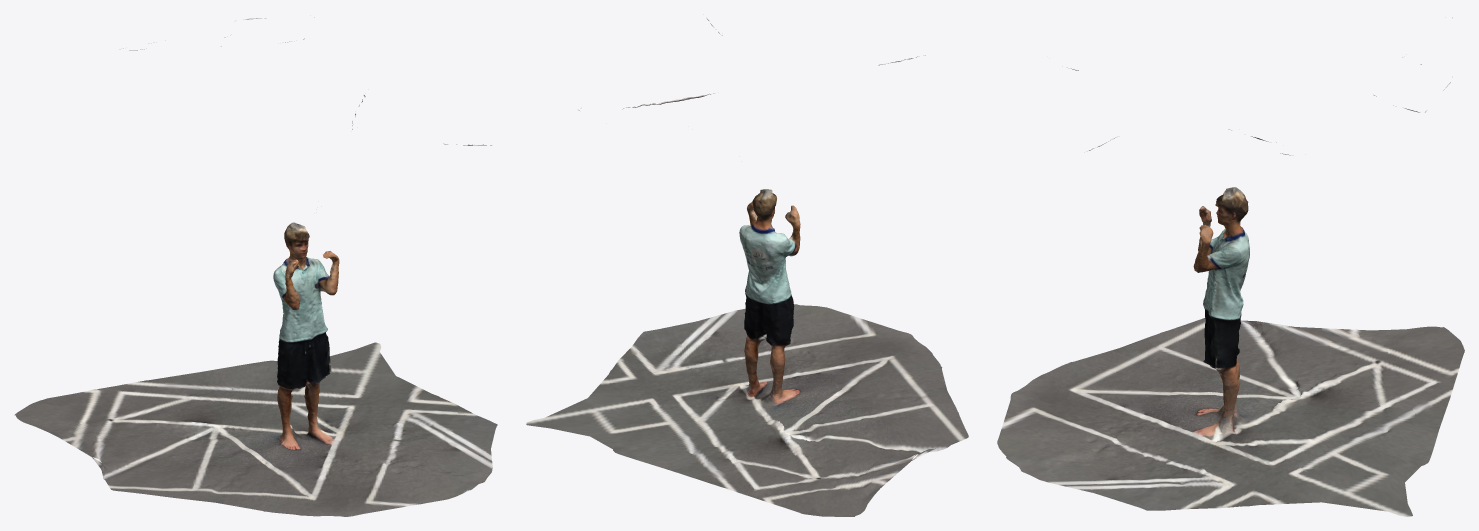
File: scene-mt2ony5o.glb
The picture shows the model from 3 angles, left to right: view 1: azimuth 30°, elevation 25°; view 2: azimuth 150°, elevation 25°; view 3: azimuth 270°, elevation 25°; orthographic projection. The views are drawn at different scales.
Parts seen in each view (by area): view 1: mesh; view 2: mesh; view 3: mesh.
Part boxes in pixels (x1=…): mesh: x1=14, y1=17, x2=497, y2=516; mesh: x1=526, y1=19, x2=968, y2=516; mesh: x1=997, y1=17, x2=1464, y2=516.
Bounding box in the file's own units: 3.28 × 2.99 × 3.37.
1 material, 1 textured.
